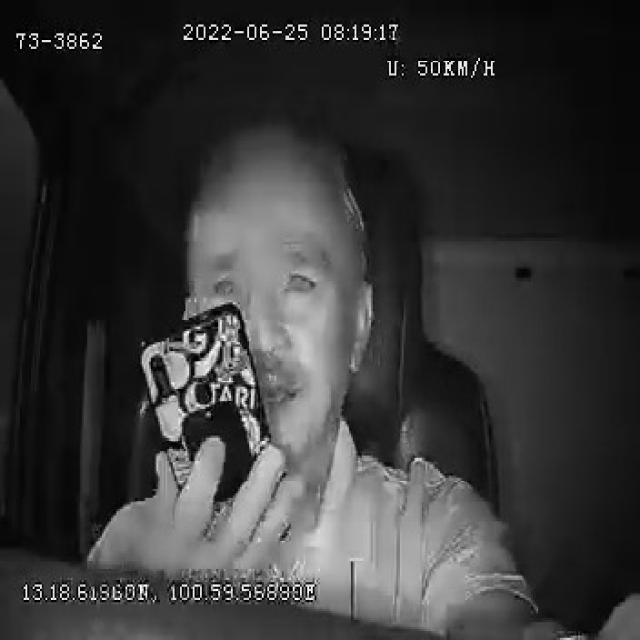phone: (137, 297, 272, 496)
